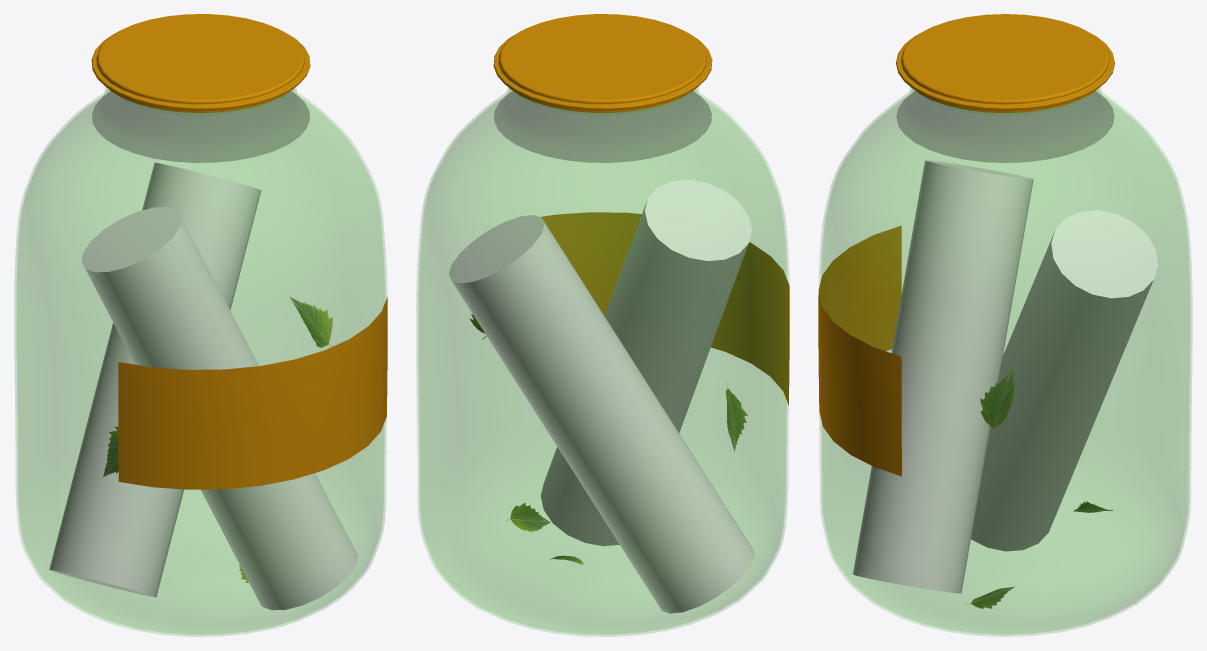
The model's file is Berezoviy sok.fbx.
3 views of the same model, side by side, from view 1: azimuth 30°, elevation 25°; view 2: azimuth 150°, elevation 25°; view 3: azimuth 270°, elevation 25° (orthographic).
Parts seen in each view (by area): view 1: glas out, glas in, Cylinder002, Cylinder001, top, glas in001, Plane002; view 2: glas out, glas in, Cylinder001, Cylinder002, top, glas in001, Plane003, Plane004; view 3: glas out, glas in, Cylinder002, Cylinder001, top, glas in001, Plane002.
Part boxes in pixels (x1,y1,x2,y2): glas out: [14, 87, 387, 636]; glas in: [17, 90, 384, 633]; Cylinder002: [81, 207, 358, 610]; Cylinder001: [49, 162, 261, 597]; top: [91, 14, 310, 112]; glas in001: [92, 91, 309, 162]; Plane002: [289, 297, 332, 347]; glas out: [416, 87, 789, 636]; glas in: [419, 90, 786, 633]; Cylinder001: [448, 215, 754, 613]; Cylinder002: [540, 180, 751, 546]; top: [493, 14, 712, 112]; glas in001: [494, 91, 711, 162]; Plane003: [725, 380, 747, 451]; Plane004: [505, 502, 550, 532]; glas out: [818, 87, 1192, 636]; glas in: [821, 89, 1189, 633]; Cylinder002: [853, 160, 1033, 593]; Cylinder001: [971, 210, 1158, 551]; top: [896, 14, 1114, 113]; glas in001: [896, 91, 1114, 162]; Plane002: [980, 367, 1014, 436].
Size of the model in its own units: 1215 by 1897 by 1215.
